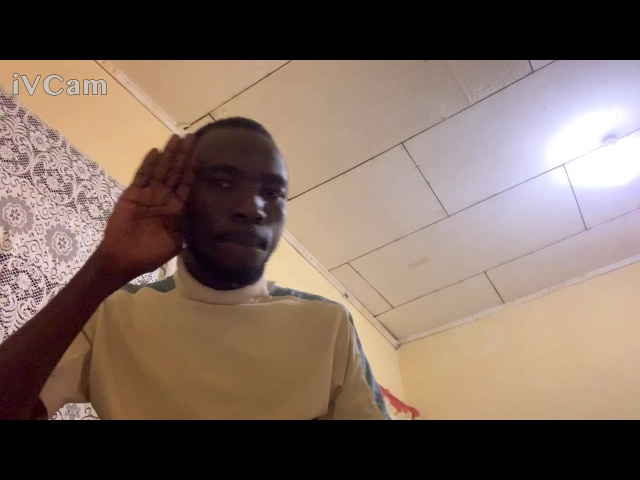s'il te plait: (91, 128, 205, 277)
